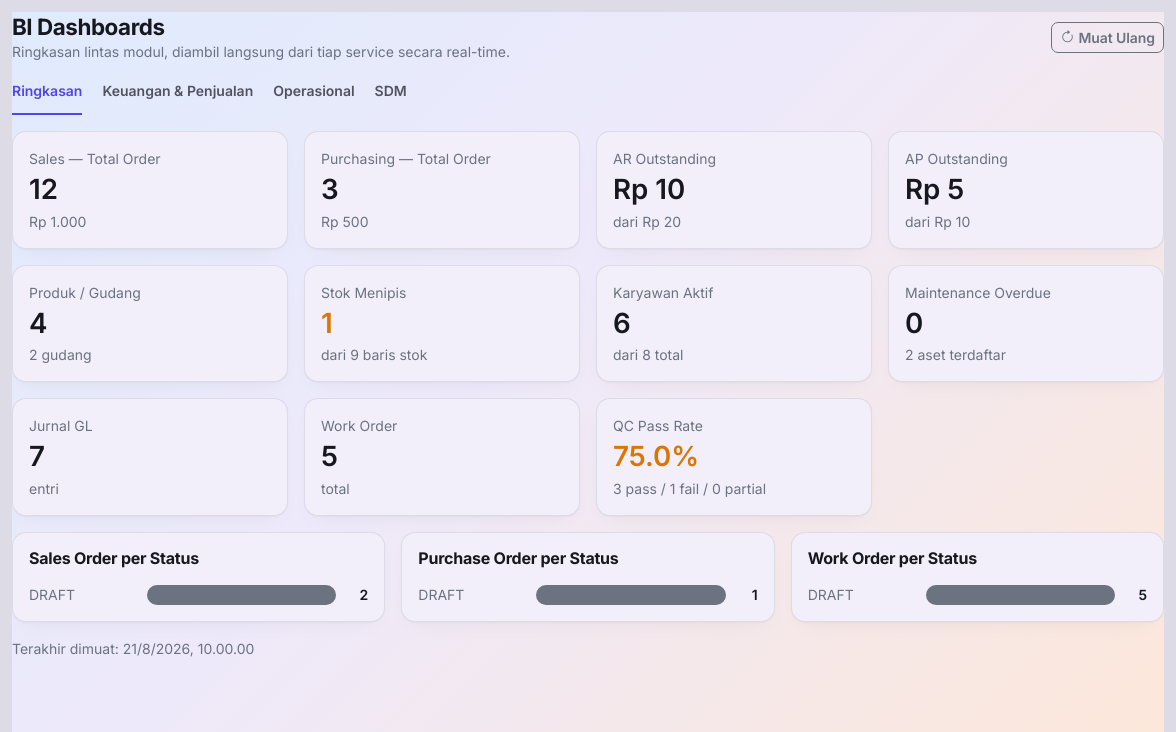
Test: BIDashboardsPage — tab bertema › pindah ke tab SDM menampilkan tiga grafik HR dan menyembunyikan ringkasan
Expected: the text "Sales — Total Order" is shown, [29,150,161,167]
Click the button "SDM": (391, 98) [375,80,407,115]
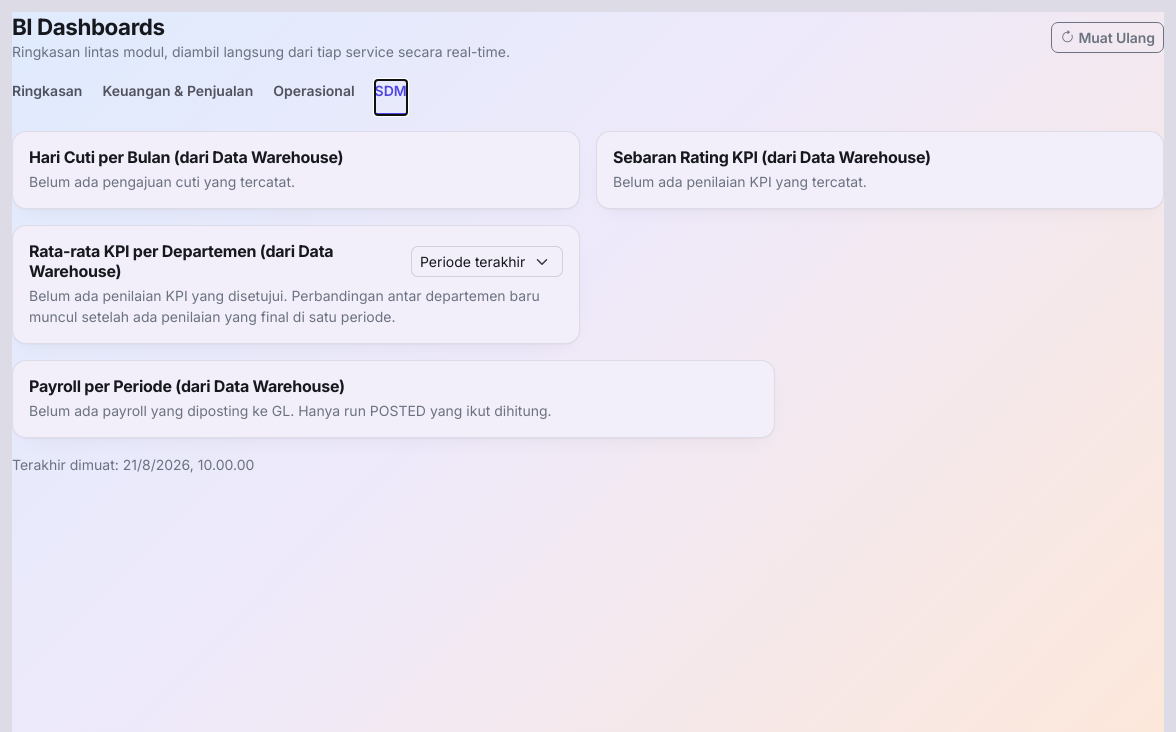
Result: the heading "Hari Cuti per Bulan (dari Data Warehouse)" is shown at [29,147,343,167]
Result: the heading "Sebaran Rating KPI (dari Data Warehouse)" is shown at [613,147,931,167]
Result: the heading "Rata-rata KPI per Departemen (dari Data Warehouse)" is shown at [29,241,333,280]
